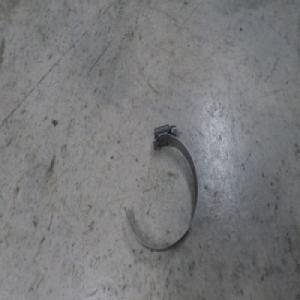AdjustableClamp: (123, 123, 198, 251)
